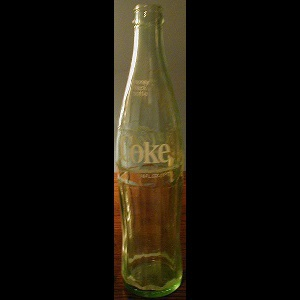emptybottle: (114, 1, 184, 297)
